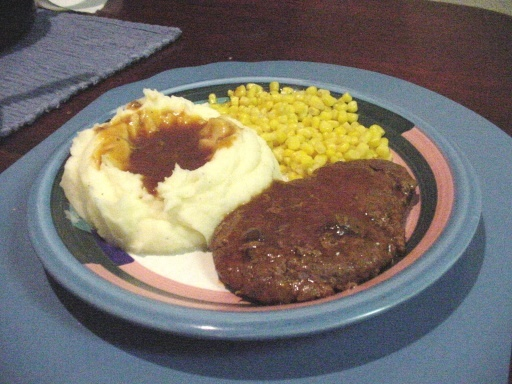background: (48, 49, 334, 184)
